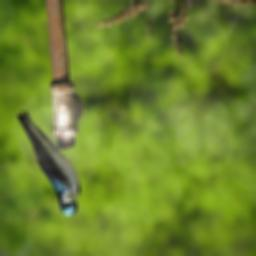Swallow: (16, 107, 81, 218)
